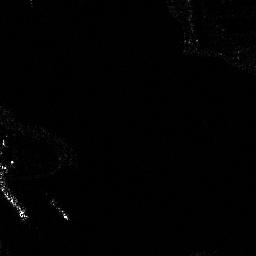ship: (49, 198, 69, 221)
